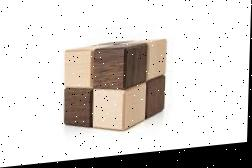cube: (64, 41, 167, 140)
